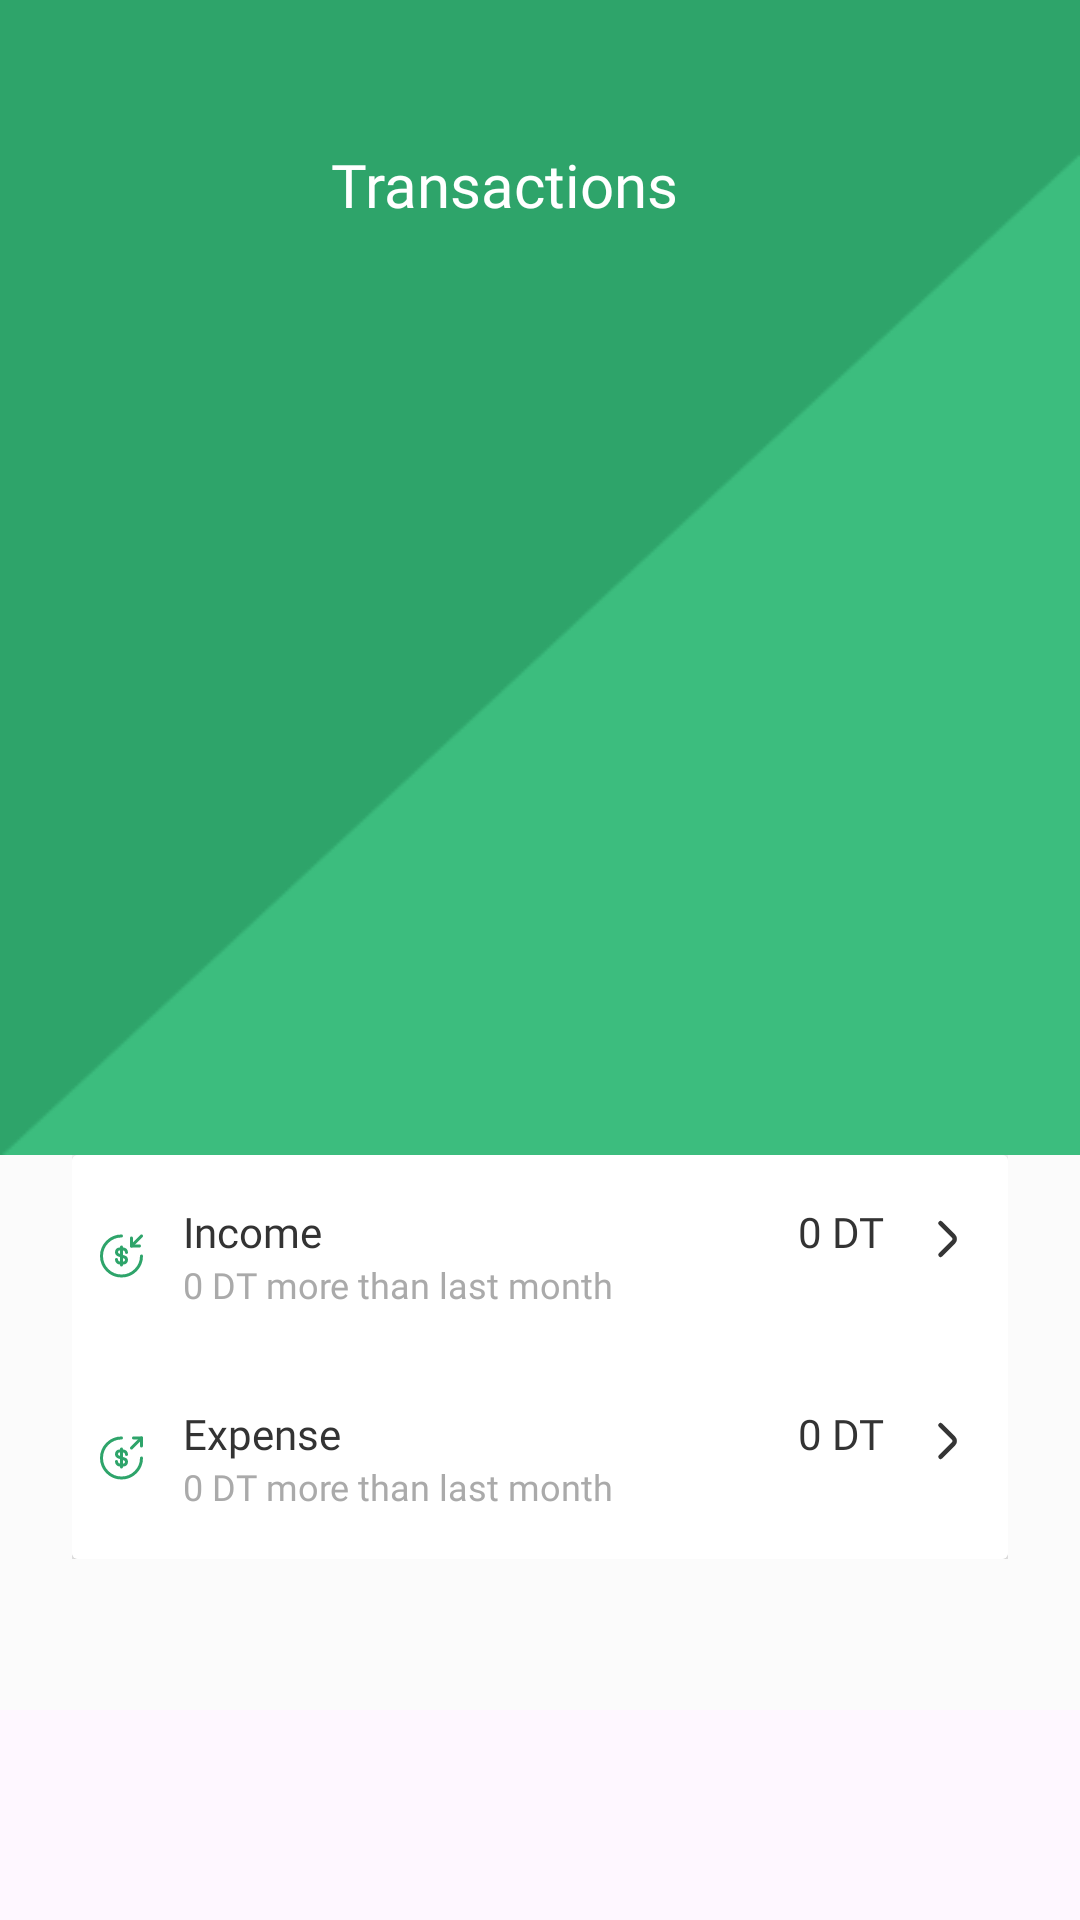

Screen size 1080 x 1920. Icon name, then its box in pixels as box(x1, y1, x2, y2):
money recive: box(100, 1234, 143, 1278)
money send: box(100, 1436, 143, 1480)
